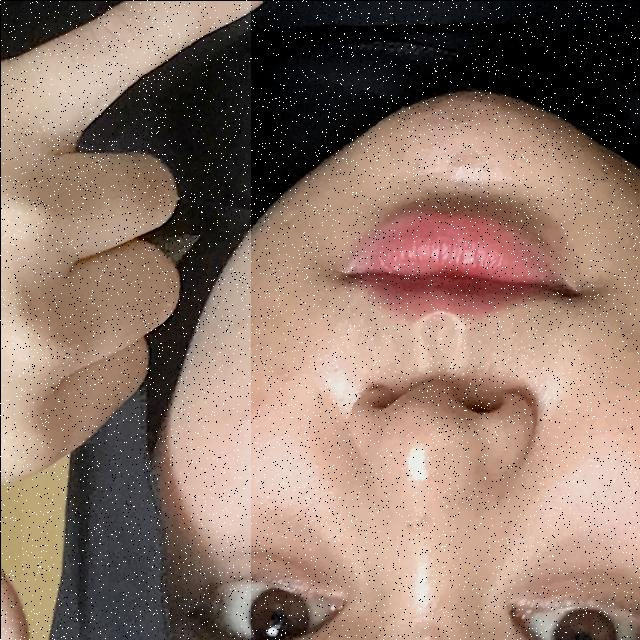telpon: (0, 0, 250, 640)
